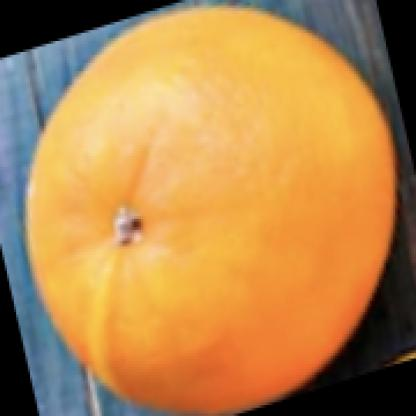fresh: (29, 7, 397, 416)
